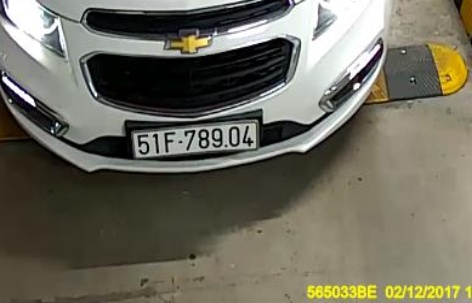plate: (126, 120, 267, 162)
